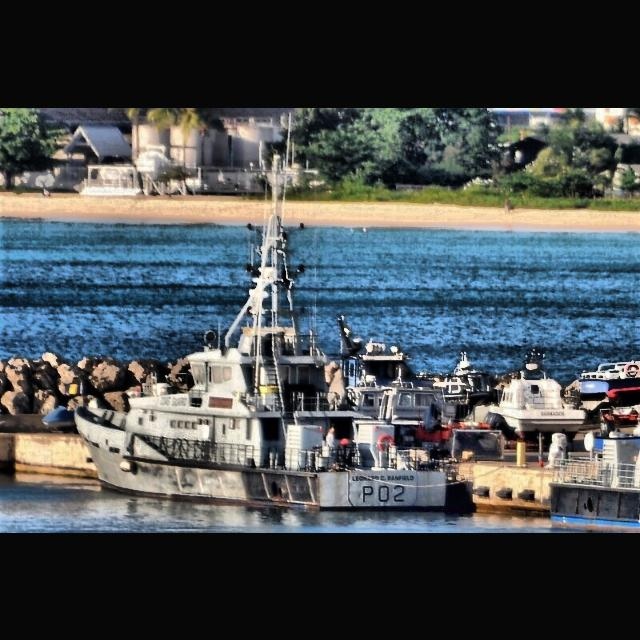patrol_vessel: (70, 308, 452, 512)
